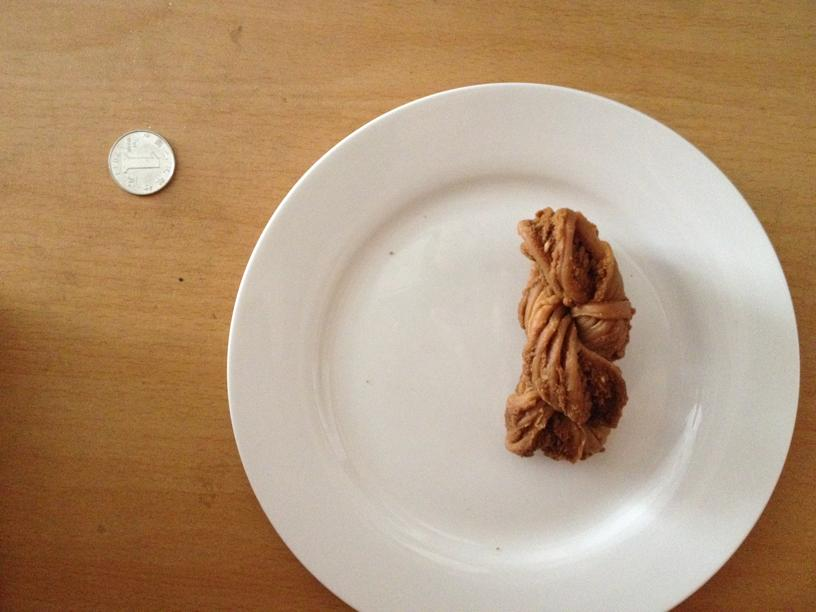coin: (109, 130, 175, 195)
fired_dough_twist: (511, 211, 630, 460)
